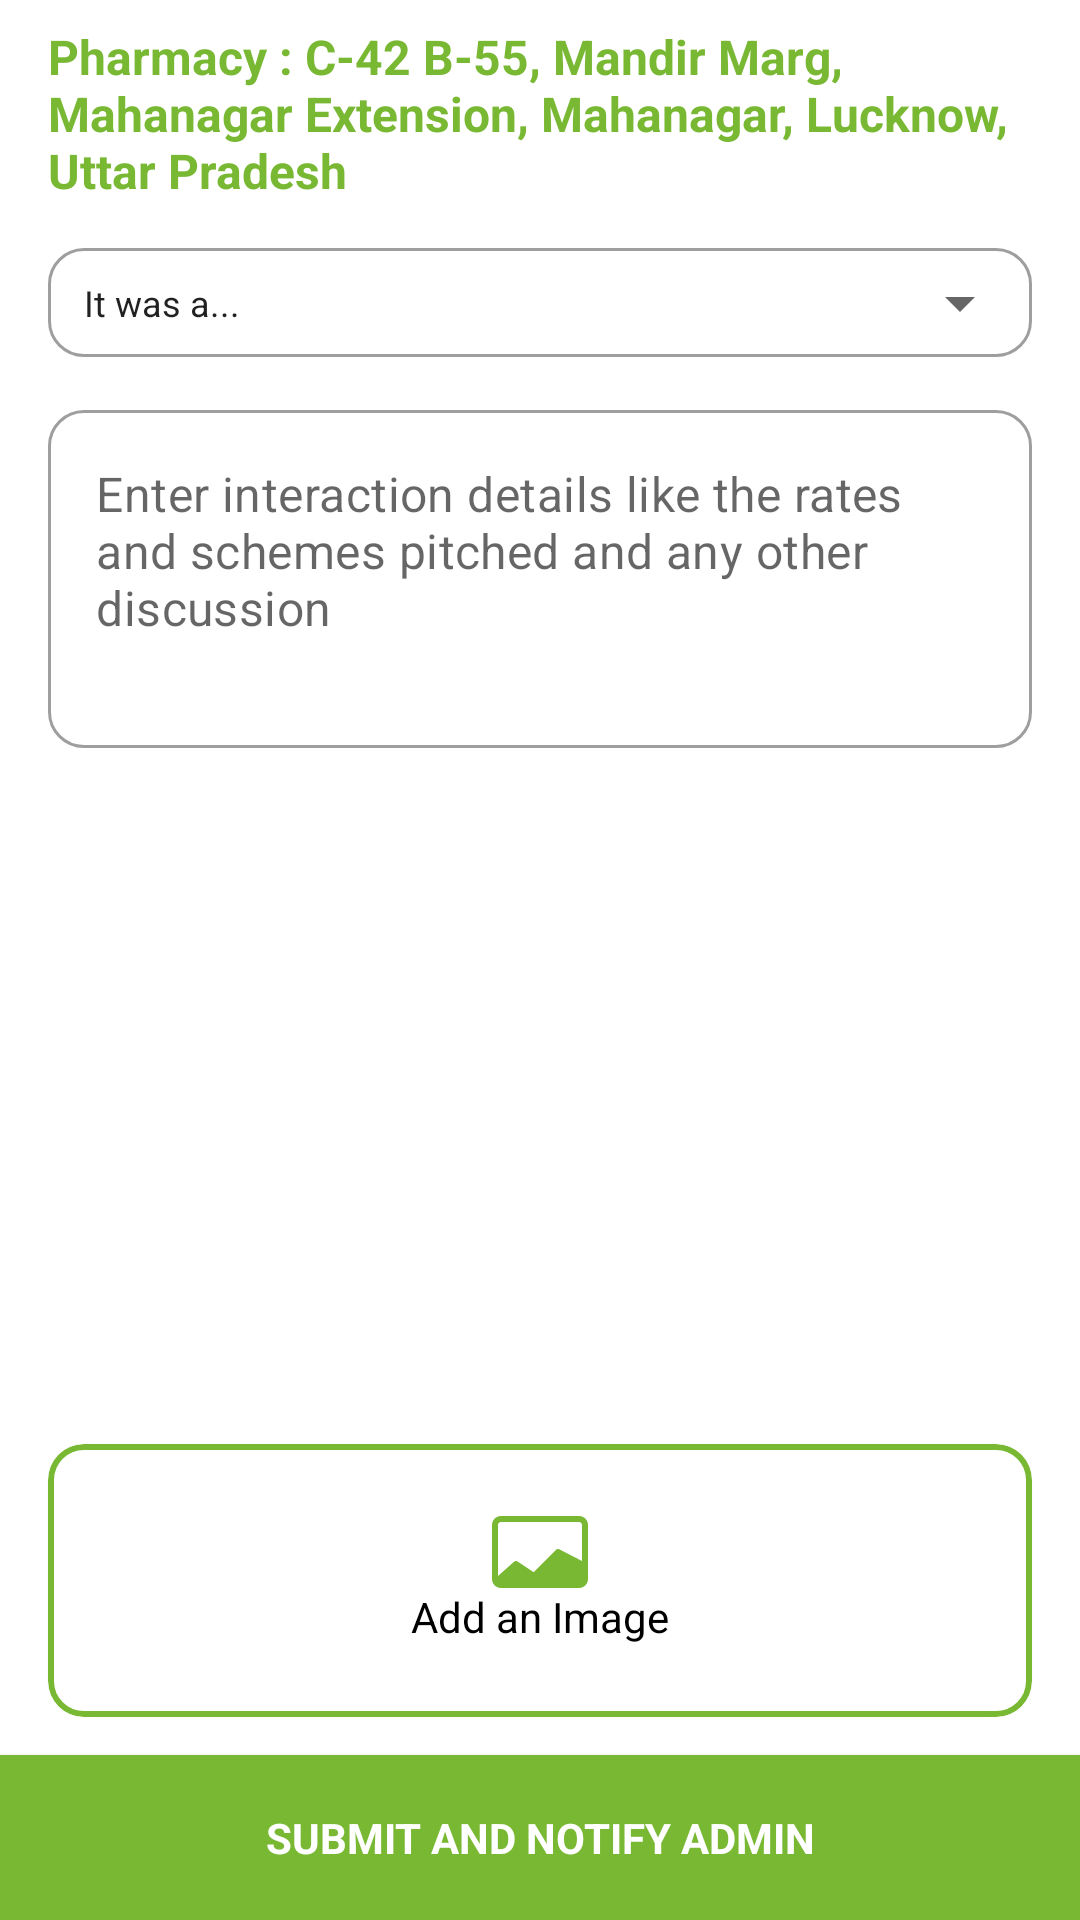

Named icons in this screenshot (1080px×1920px) and their centers, point (x, y):
upload picture: point (540, 1552)
